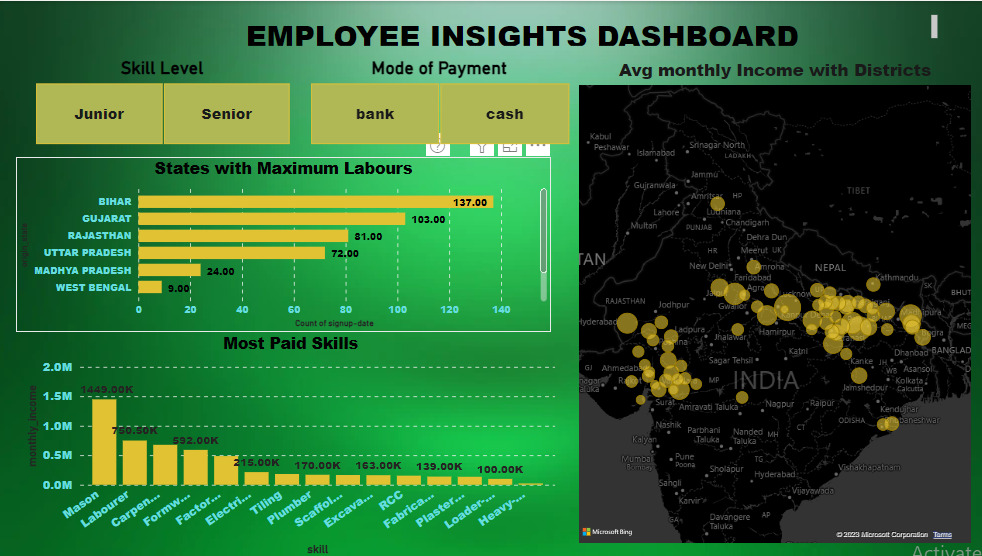

The page's visual inventory and layout, read from the dashboard file:
{"tool":"powerbi","page":{"name":"Page 1","canvas":[1280,720],"ordinal":0},"visuals":[{"type":"columnChart","title":"Most Paid Skills","fields":{"Category":["Task3 (1).skill"],"Y":["Sum(Task3 (1).monthly_income)"]},"box":[34,426.6,693.1,293.4],"z":0},{"type":"map","title":"Avg monthly Income with Districts","fields":{"Category":["Task3 (1).origin_district"],"Size":["Avg(Task3 (1).monthly_income)"]},"box":[746.9,73.7,515.9,630.7],"z":1000},{"type":"slicer","title":"Skill Level","fields":{"Values":["Task3 (1).level"]},"box":[25.5,73.7,377,117.6],"z":2000},{"type":"textbox","box":[146,12.8,1074.3,49.6],"z":3000},{"type":"clusteredBarChart","title":"States with Maximum Labours","fields":{"Category":["Task3 (1).origin_state"],"Y":["CountNonNull(Task3 (1).signup-date)"]},"box":[25.5,201.3,690.2,225.4],"z":4000},{"type":"slicer","title":"Mode of Payment","fields":{"Values":["Task3 (1).payment_mode"]},"box":[381.3,73.7,382.7,117.6],"z":5000}]}

Visuals, with their boxes on the page's 1280x720 design canvas (x1, y1, x2, y2). These are canvas units, not pixel positions in the 982x556 screenshot, which may show the page scaled, cropped or inside an application window:
"Most Paid Skills" columnChart: box(34, 427, 727, 720)
"Avg monthly Income with Districts" map: box(747, 74, 1263, 704)
"Skill Level" slicer: box(26, 74, 402, 191)
textbox: box(146, 13, 1220, 62)
"States with Maximum Labours" clusteredBarChart: box(26, 201, 716, 427)
"Mode of Payment" slicer: box(381, 74, 764, 191)
